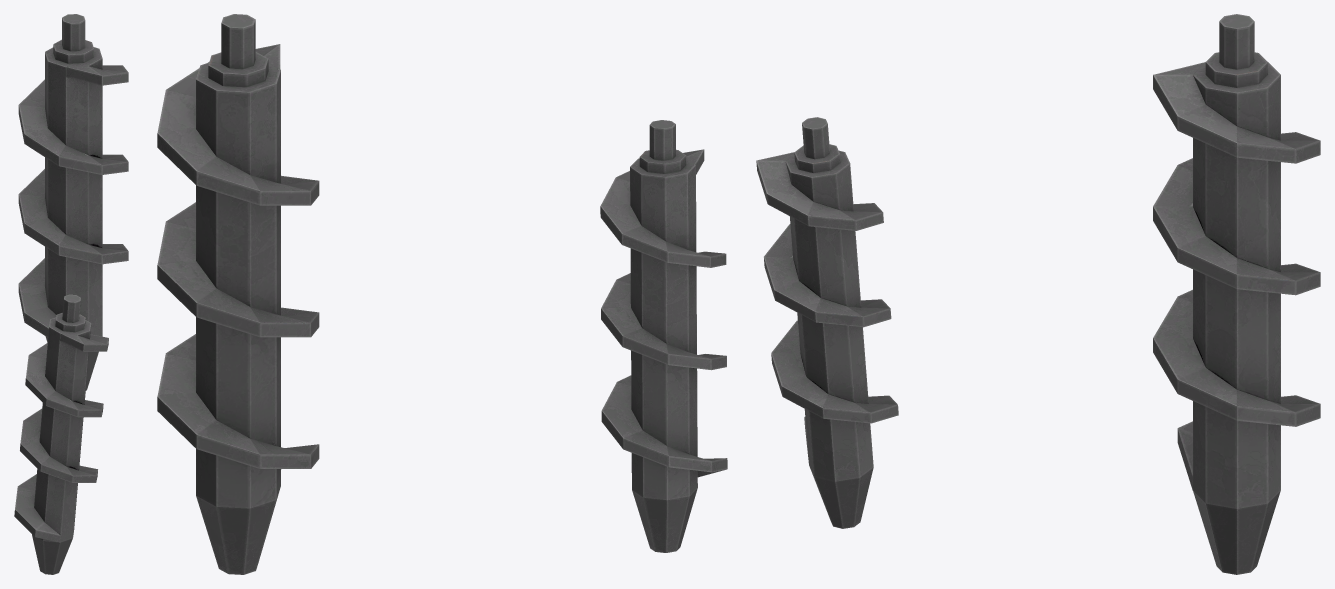
The model's file is StandardDrillBit.glb.
3 renders of one model, left to right at view 1: azimuth 30°, elevation 25°; view 2: azimuth 150°, elevation 25°; view 3: azimuth 270°, elevation 25°, orthographic. The views are drawn at different scales.
Parts seen in each view (by area): view 1: WorldModel, drillbit; view 2: WorldModel, drillbit; view 3: WorldModel, drillbit.
Boxes of the visible parts, box(x1,y1,x2,y2) form: WorldModel: box(18, 14, 128, 390); drillbit: box(14, 294, 108, 574); WorldModel: box(157, 14, 319, 574); drillbit: box(600, 120, 727, 552); WorldModel: box(1153, 14, 1320, 574); drillbit: box(756, 117, 898, 528).
Size of the model in its own units: 0.7016 by 1.17 by 0.9716.
1 material, 1 textured.
